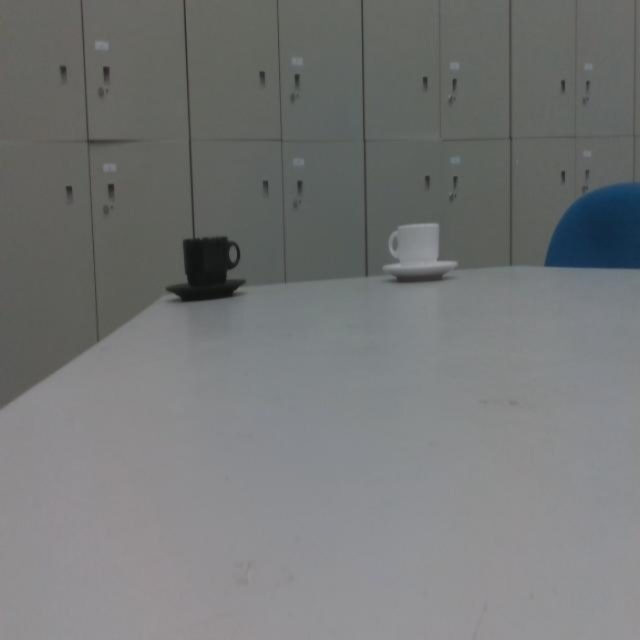black: (165, 233, 248, 301)
white: (380, 221, 459, 283)
